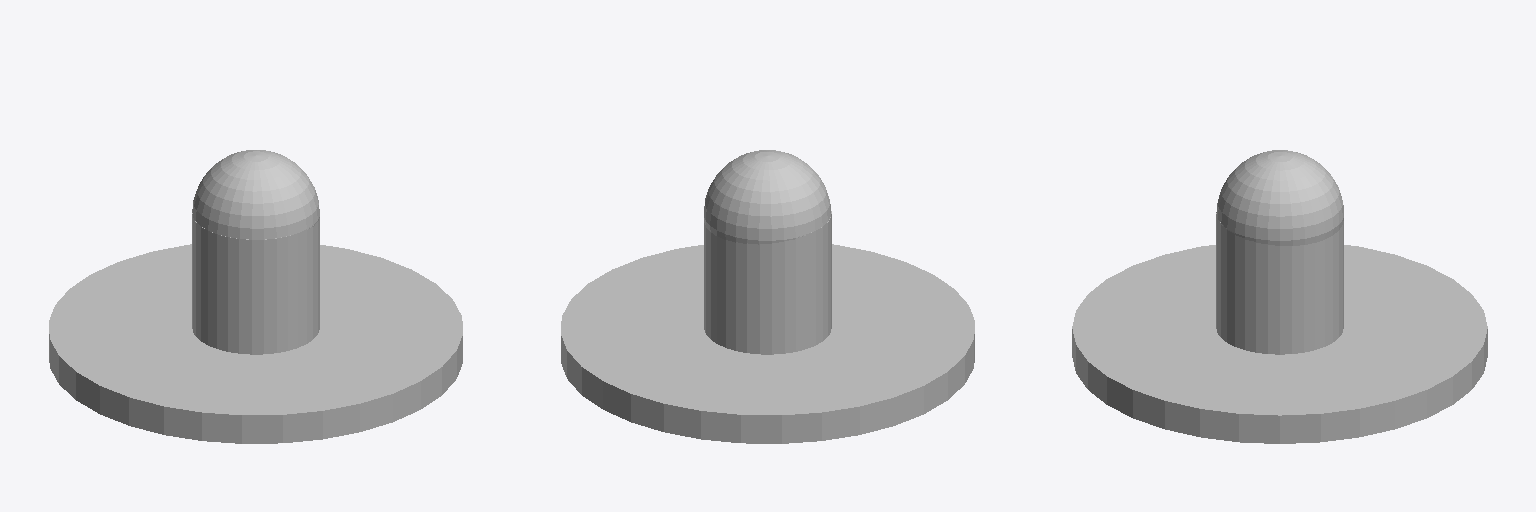
Rendered from paddle.obj.
The picture shows the model from 3 angles: view 1: azimuth 30°, elevation 25°; view 2: azimuth 150°, elevation 25°; view 3: azimuth 270°, elevation 25°; orthographic projection.
Parts seen in each view (by area): view 1: Cylinder; view 2: Cylinder; view 3: Cylinder.
Part boxes in pixels (x1,y1,x2,y2): Cylinder: (49, 150, 462, 443); Cylinder: (561, 150, 974, 443); Cylinder: (1072, 150, 1487, 443).
Bounding box in the file's own units: 2 × 1.06 × 2.